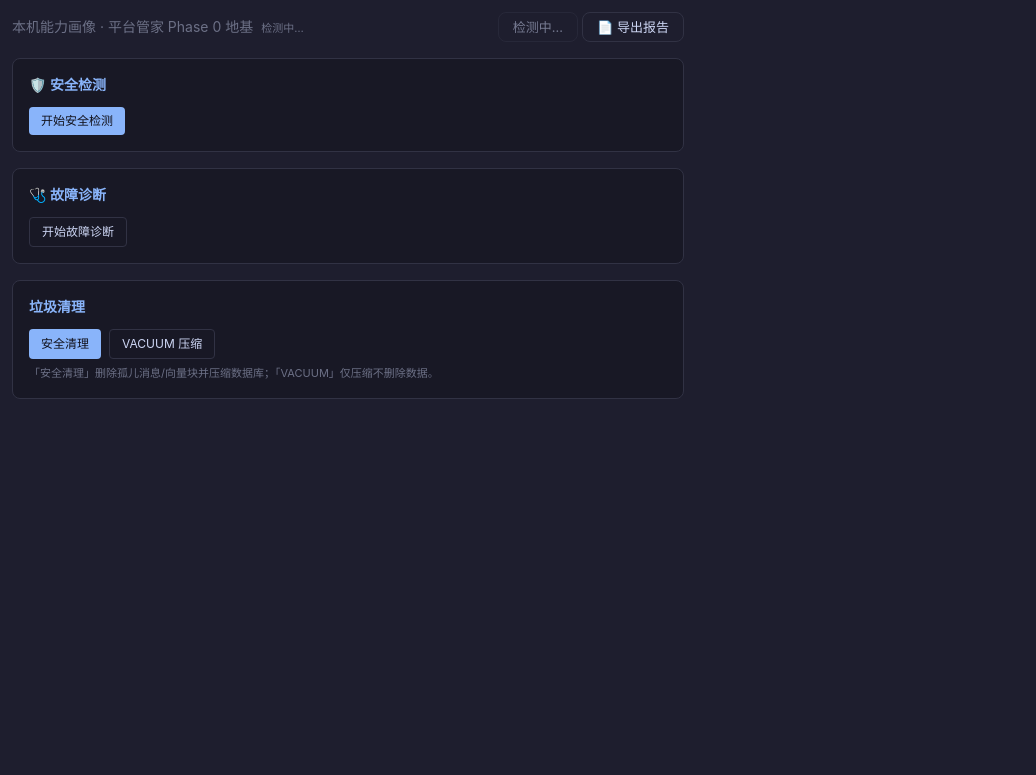
Test: ② 手动 VACUUM：没跑成 ≠ 跑过了没东西可回收 › 信封失败面照旧：通道回 {ok:false} ⇒ 只有 toast，那一格整格不出现（§216 那颗判据还在）
Click the button "VACUUM 压缩". click: (162, 344)
box: left=109, top=329, right=215, bottom=359
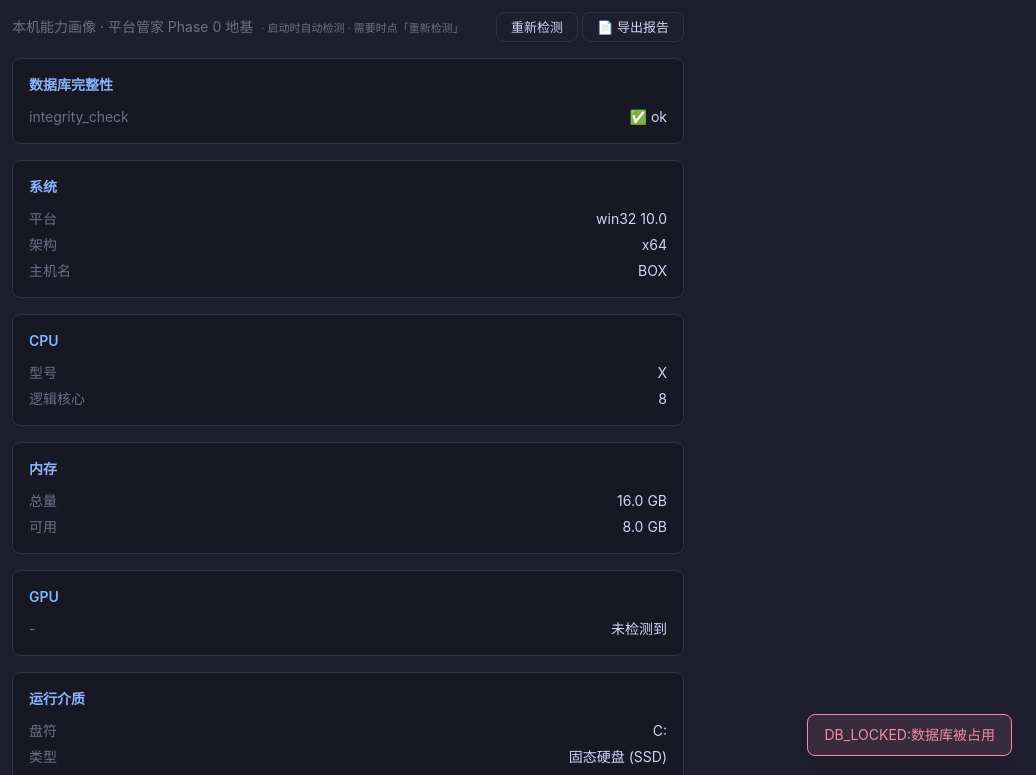
Check: the message reads "DB_LOCKED:数据库被占用", box left=824, top=726, right=995, bottom=743
